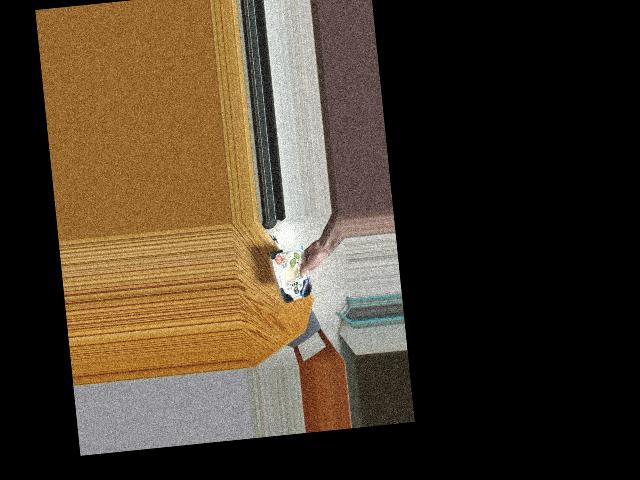cheese: (266, 241, 322, 303)
